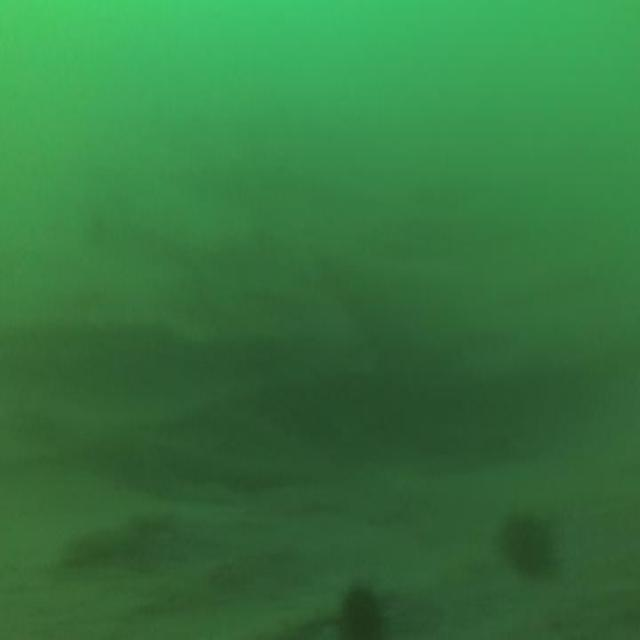echinus: (496, 504, 559, 588), (331, 575, 385, 640)
